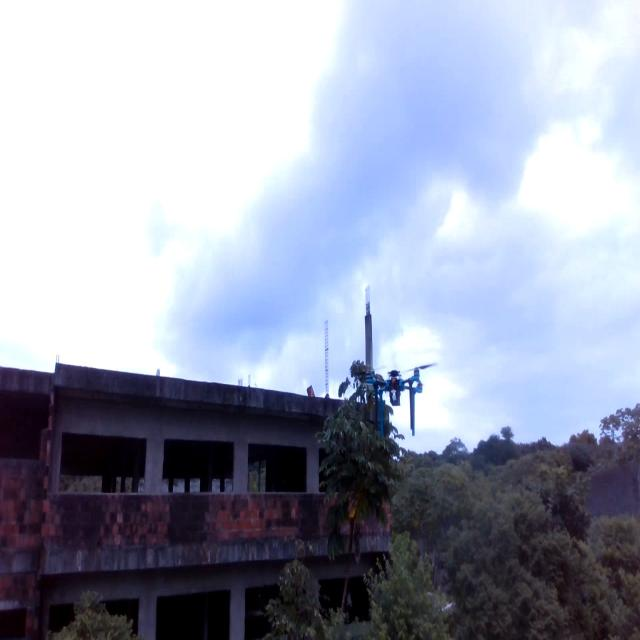-uav-: (352, 350, 437, 450)
